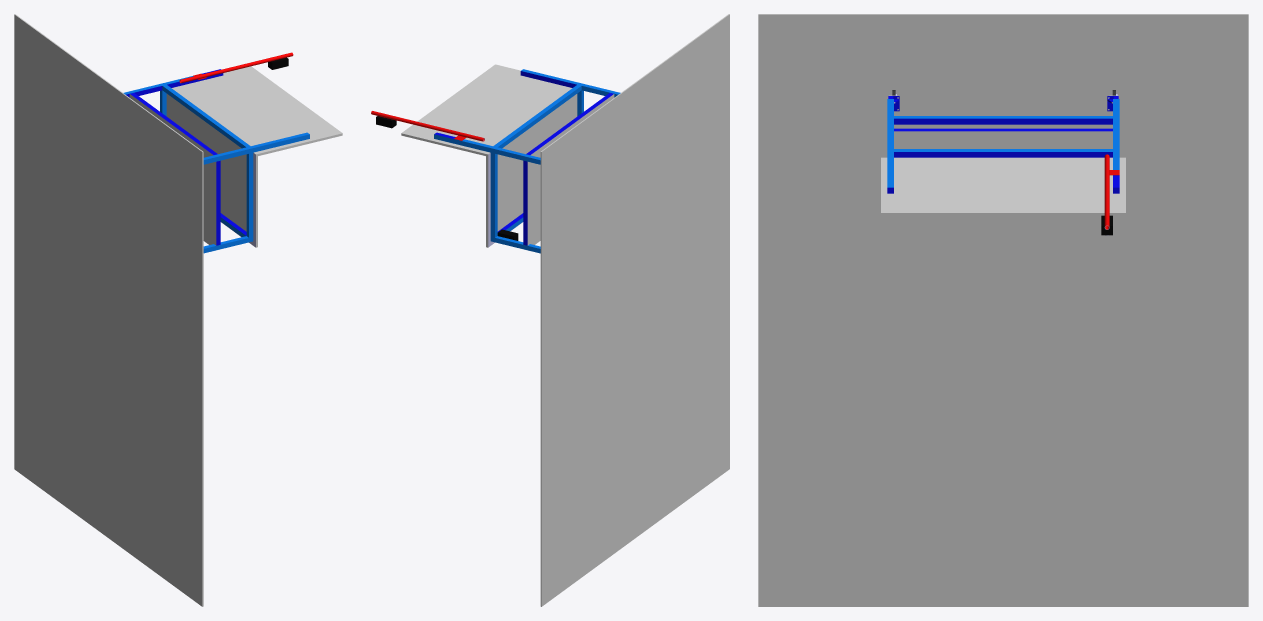
Rendered from Scene_Conditionnement_GLB.gltf.
3 views of the same model, side by side, from view 1: azimuth 30°, elevation 25°; view 2: azimuth 150°, elevation 25°; view 3: azimuth 270°, elevation 25° (orthographic). The views are drawn at different scales.
Visible parts, largest first — view 1: plan-post003, Part002, Part1; view 2: plan-post003, Part002, Part1; view 3: plan-post003, Part002.
Part boxes in pixels (x1,y1,x2,y2): plan-post003: (14, 14, 203, 606); Part002: (123, 66, 342, 253); Part1: (179, 52, 293, 83); plan-post003: (540, 14, 729, 606); Part002: (401, 64, 620, 253); Part1: (371, 111, 484, 141); plan-post003: (758, 14, 1248, 606); Part002: (881, 96, 1125, 280).
Size of the model in its own units: 2.06 by 4 by 3.
